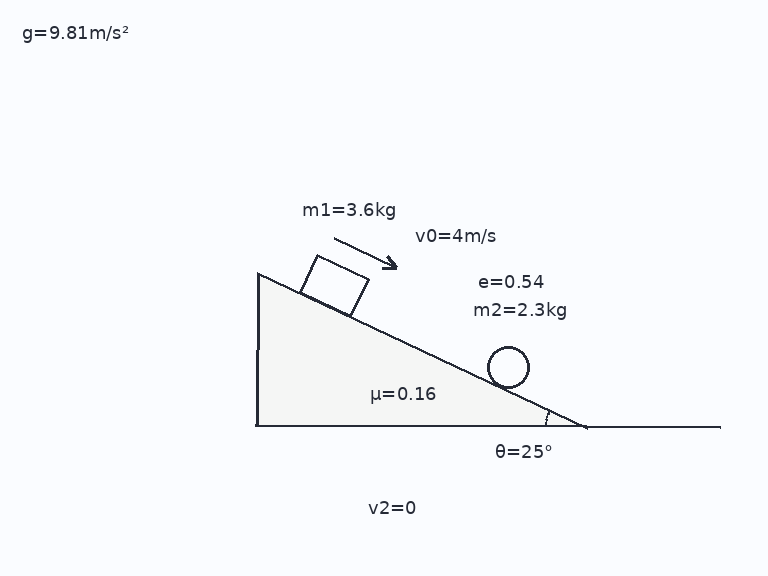ball: (485, 344, 531, 390)
block: (298, 254, 370, 318)
ramp: (255, 271, 588, 428)
